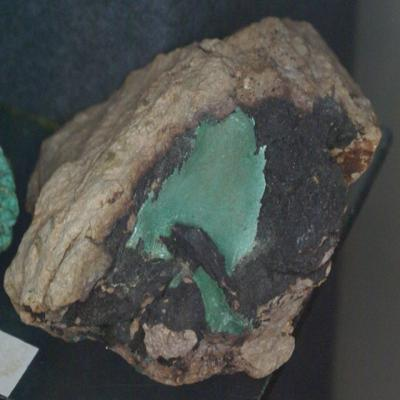mineralogy: (5, 18, 380, 385)
